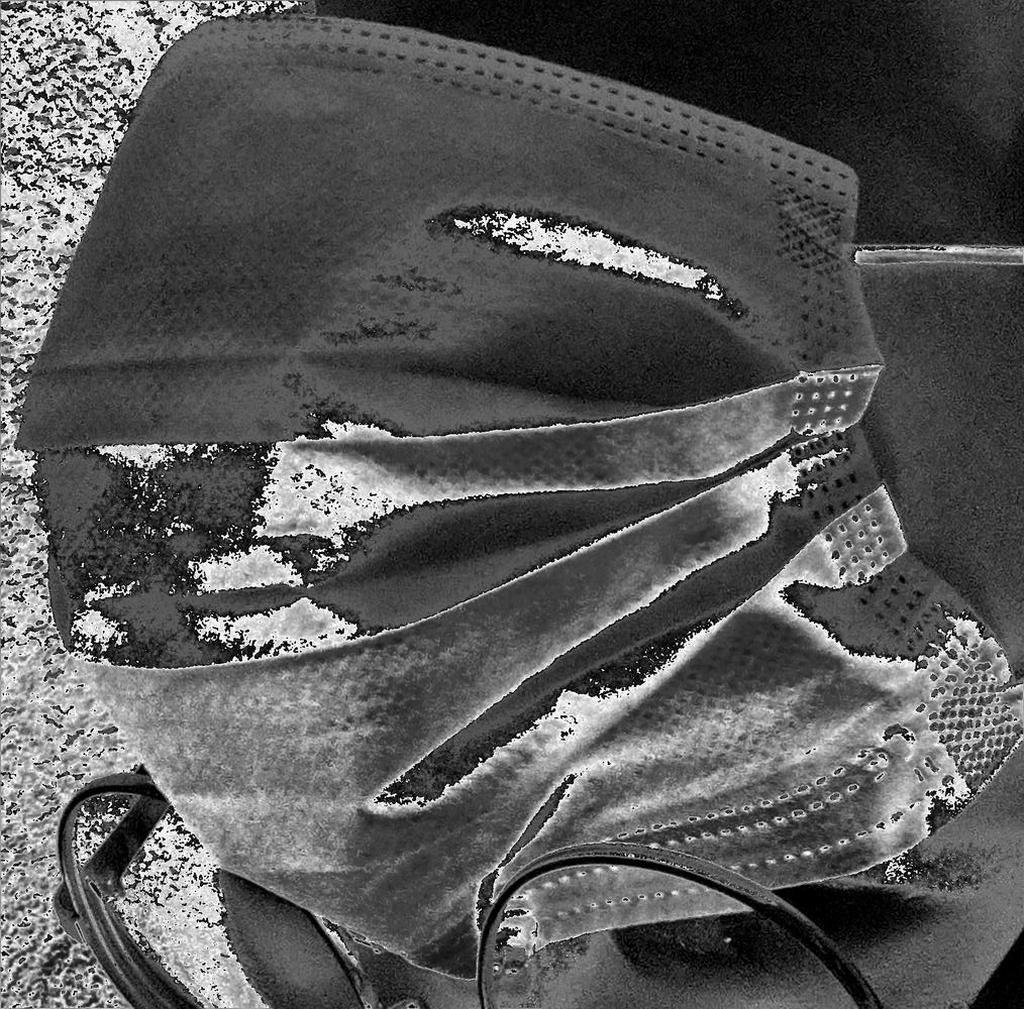Low GSM: (13, 7, 1024, 986)
